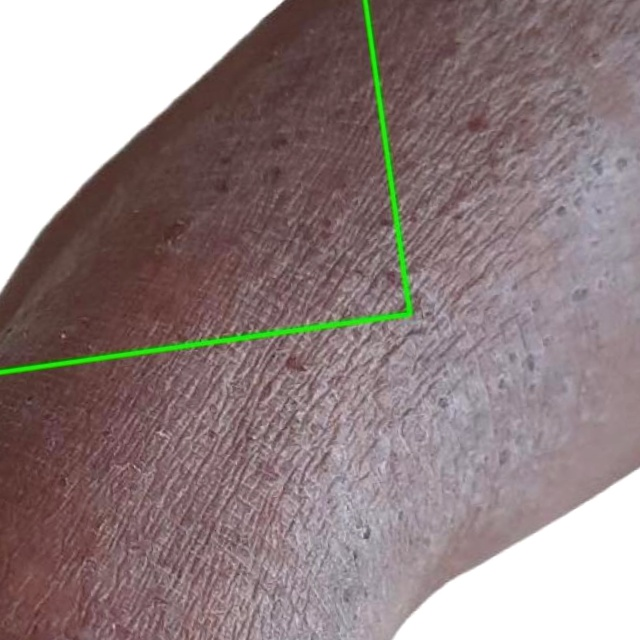Contact Dermatitis: (0, 0, 410, 372)
